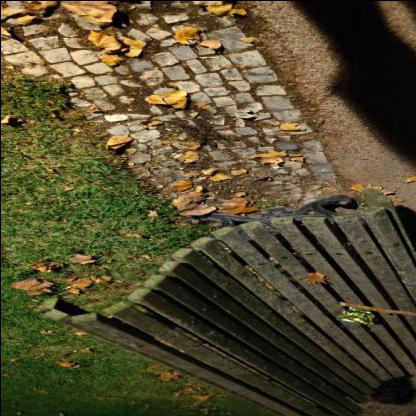Plastic bag - wrapper: (335, 306, 375, 324)
